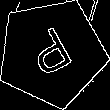P_SE: (23, 22, 80, 84)
